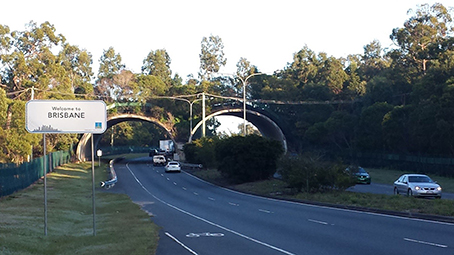bridge: (76, 95, 361, 160)
